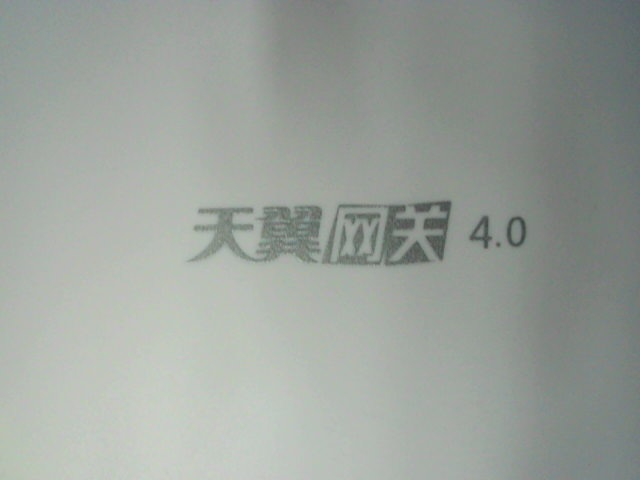BM_TianYiWangGuan: (186, 199, 539, 268)
